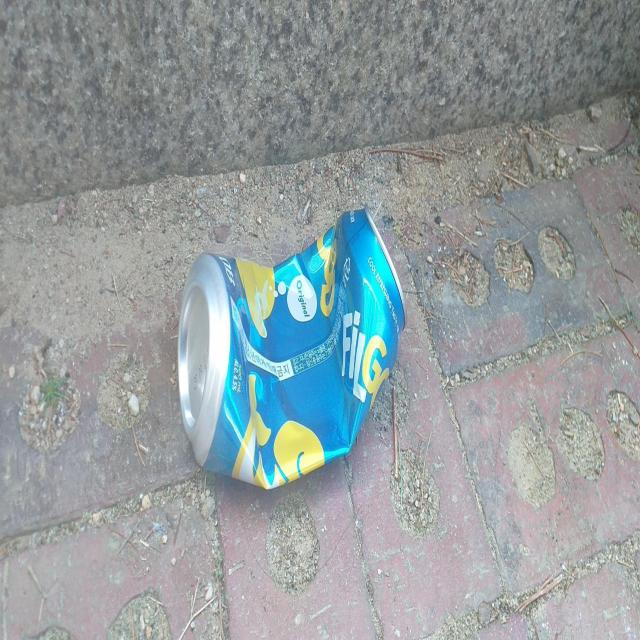can: (177, 205, 406, 489)
